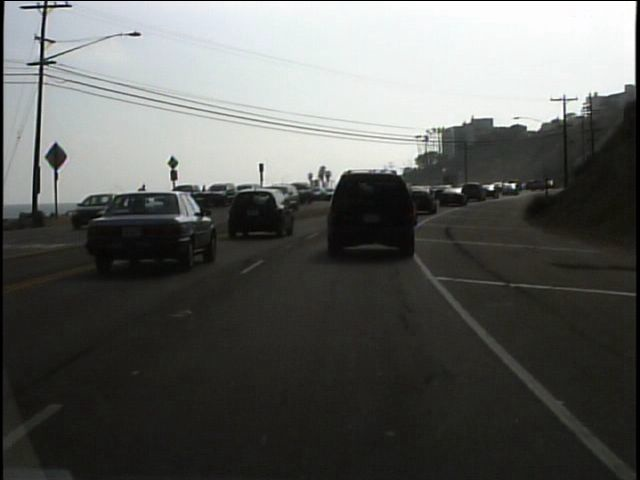person: (136, 181, 152, 212), (198, 183, 211, 209)
